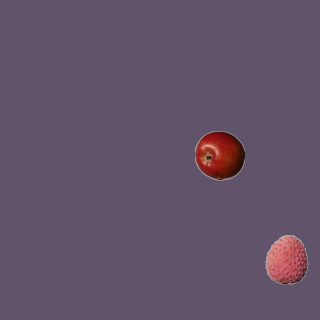Apple Braeburn: (194, 130, 244, 180)
Lychee: (261, 234, 311, 284)
